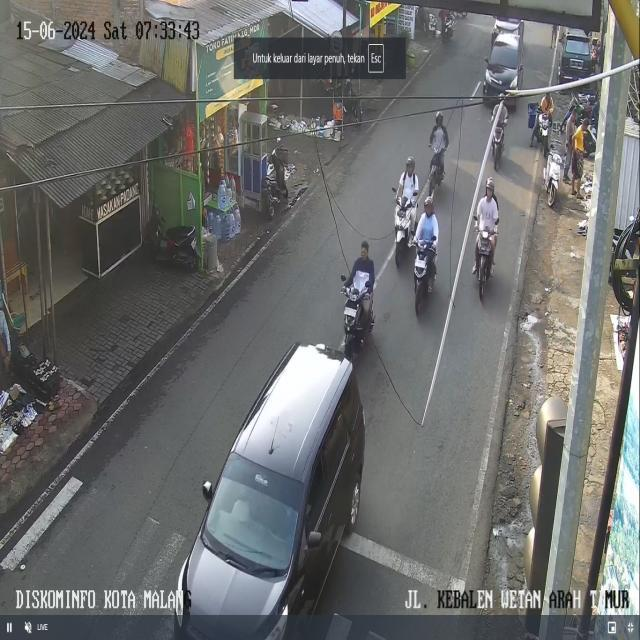Helmet: (486, 177, 494, 190), (424, 195, 433, 205), (406, 156, 414, 167), (435, 111, 442, 121)
Number Plate: (415, 259, 426, 269), (344, 307, 356, 316)
Rearview Mirror: (308, 531, 321, 548), (202, 481, 211, 501), (340, 274, 346, 281), (365, 280, 370, 287), (413, 190, 418, 196), (484, 57, 488, 63), (392, 187, 396, 192)
